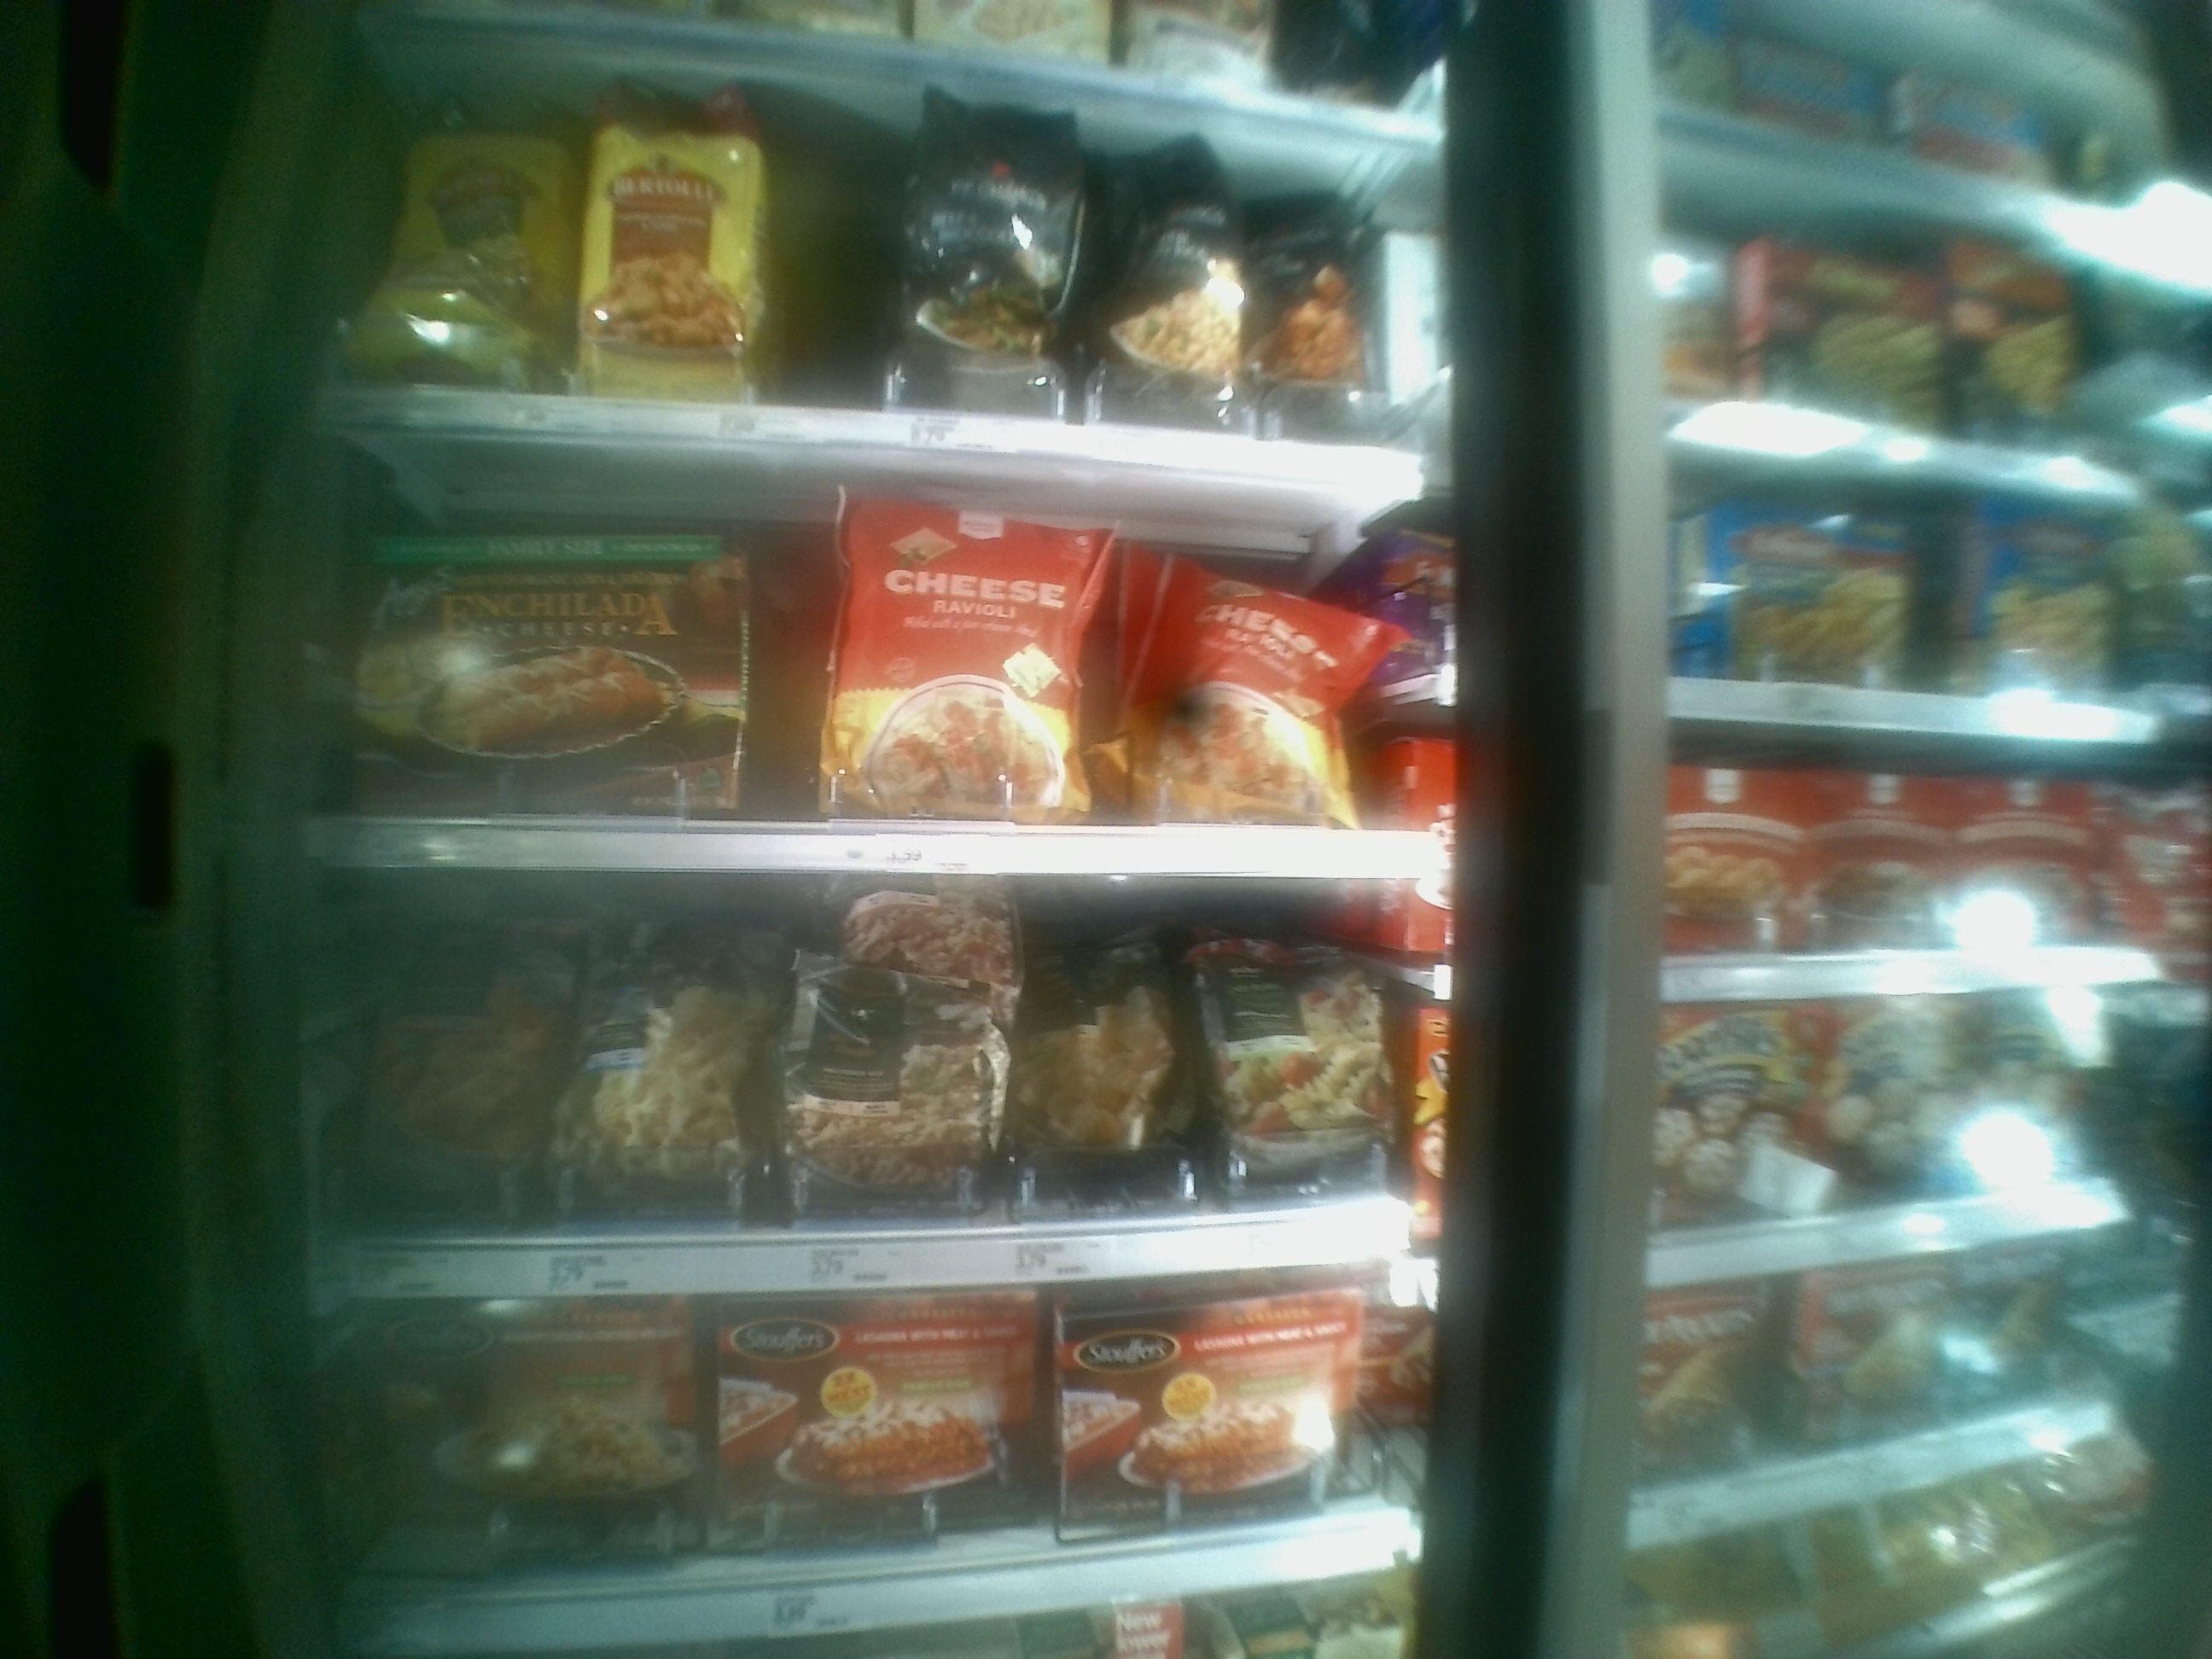shelf: (301, 436, 1453, 884), (289, 84, 1444, 504), (298, 877, 1447, 1288), (329, 1305, 1421, 1645)
